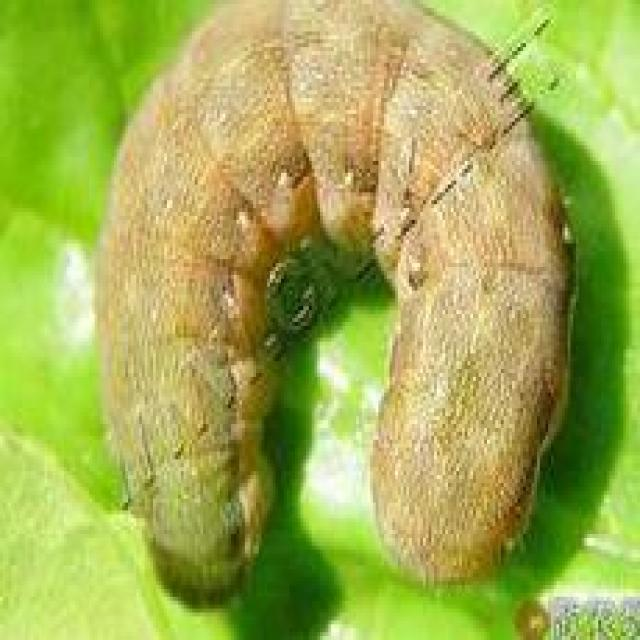BeetArmyWorm-Larva-: (94, 1, 584, 603)
